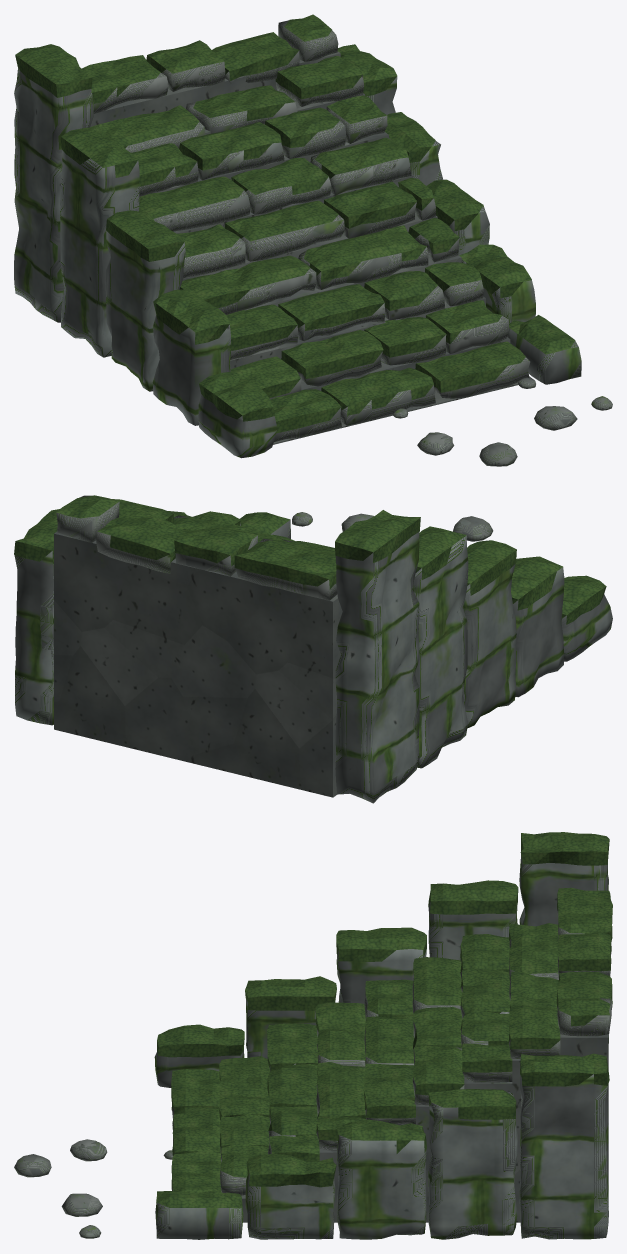
Rendered from broken_stone_stairs.glb.
3 views of the same model, one above another, from view 1: azimuth 30°, elevation 25°; view 2: azimuth 150°, elevation 25°; view 3: azimuth 270°, elevation 25° (orthographic). The views are drawn at different scales.
Parts seen in each view (by area): view 1: broken_stone_stairs__moss, broken_stone_stairs__stone_wall, broken_stone_stairs__stone_block, broken_stone_stairs__stone_dark; view 2: broken_stone_stairs__stone_dark, broken_stone_stairs__stone_wall, broken_stone_stairs__moss, broken_stone_stairs__stone_block; view 3: broken_stone_stairs__moss, broken_stone_stairs__stone_wall, broken_stone_stairs__stone_block, broken_stone_stairs__stone_dark.
Boxes of the visible parts, x1,y1,x2,y2 form: broken_stone_stairs__moss: (15, 14, 575, 433); broken_stone_stairs__stone_wall: (14, 67, 581, 458); broken_stone_stairs__stone_block: (93, 20, 612, 466); broken_stone_stairs__stone_dark: (90, 51, 531, 444); broken_stone_stairs__stone_dark: (54, 531, 342, 797); broken_stone_stairs__stone_wall: (14, 512, 612, 803); broken_stone_stairs__moss: (14, 495, 606, 624); broken_stone_stairs__stone_block: (56, 495, 493, 600); broken_stone_stairs__moss: (156, 832, 612, 1217); broken_stone_stairs__stone_wall: (154, 855, 608, 1239); broken_stone_stairs__stone_block: (14, 907, 611, 1238); broken_stone_stairs__stone_dark: (241, 1034, 608, 1222).
Size of the model in its own units: 3.13 by 2.15 by 4.73.
4 materials, 4 textured.
